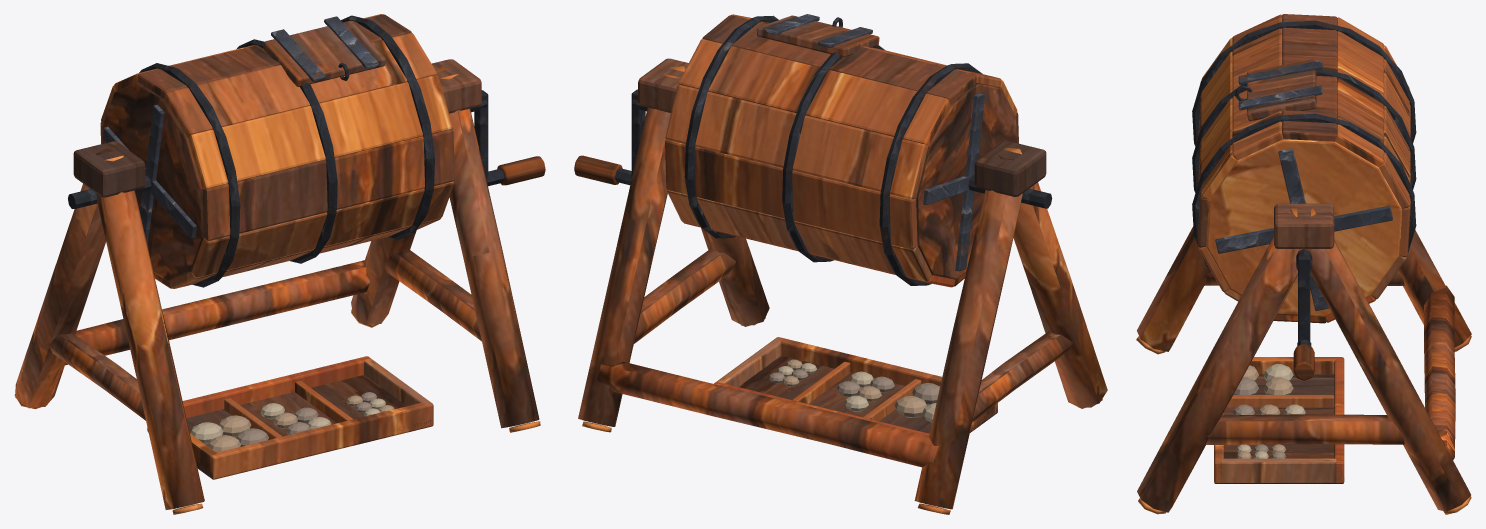
The model's file is op_tumbler.glb.
The picture shows the model from 3 angles, left to right: view 1: azimuth 30°, elevation 25°; view 2: azimuth 150°, elevation 25°; view 3: azimuth 270°, elevation 25°; orthographic projection. The views are drawn at different scales.
Parts seen in each view (by area): view 1: model; view 2: model; view 3: model.
Part boxes in pixels (left/top/right/bottom): model: left=14, top=14, right=545, bottom=514; model: left=574, top=14, right=1107, bottom=514; model: left=1136, top=14, right=1471, bottom=514.
Bounding box in the file's own units: 1.06 × 0.8222 × 0.6706.
22 materials, 19 textured.
